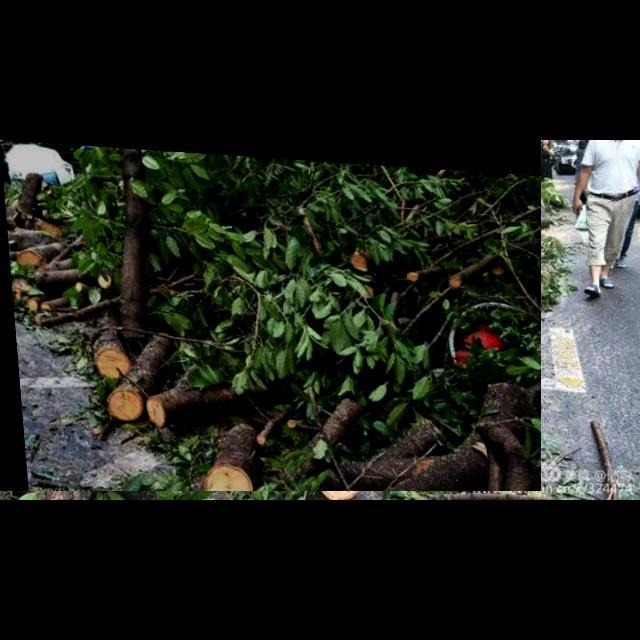fallen_tree: (0, 140, 542, 492)
